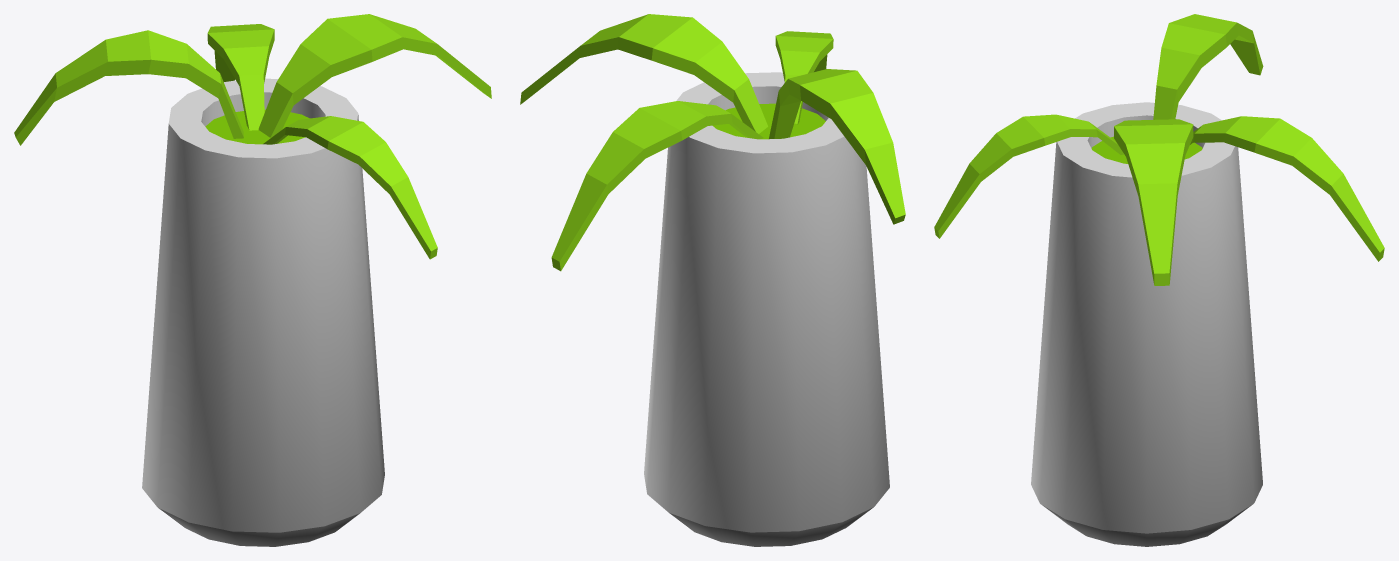
The model's file is Nature_Deco_3.obj.
The picture shows the model from 3 angles, left to right: view 1: azimuth 30°, elevation 25°; view 2: azimuth 150°, elevation 25°; view 3: azimuth 270°, elevation 25°; orthographic projection. The views are drawn at different scales.
Parts seen in each view (by area): view 1: Nature_Deco_3; view 2: Nature_Deco_3; view 3: Nature_Deco_3.
Part boxes in pixels (x1=…): Nature_Deco_3: x1=14, y1=14, x2=491, y2=546; Nature_Deco_3: x1=520, y1=14, x2=905, y2=546; Nature_Deco_3: x1=934, y1=14, x2=1384, y2=546.
Size of the model in its own units: 0.7945 by 0.8344 by 0.7703.
